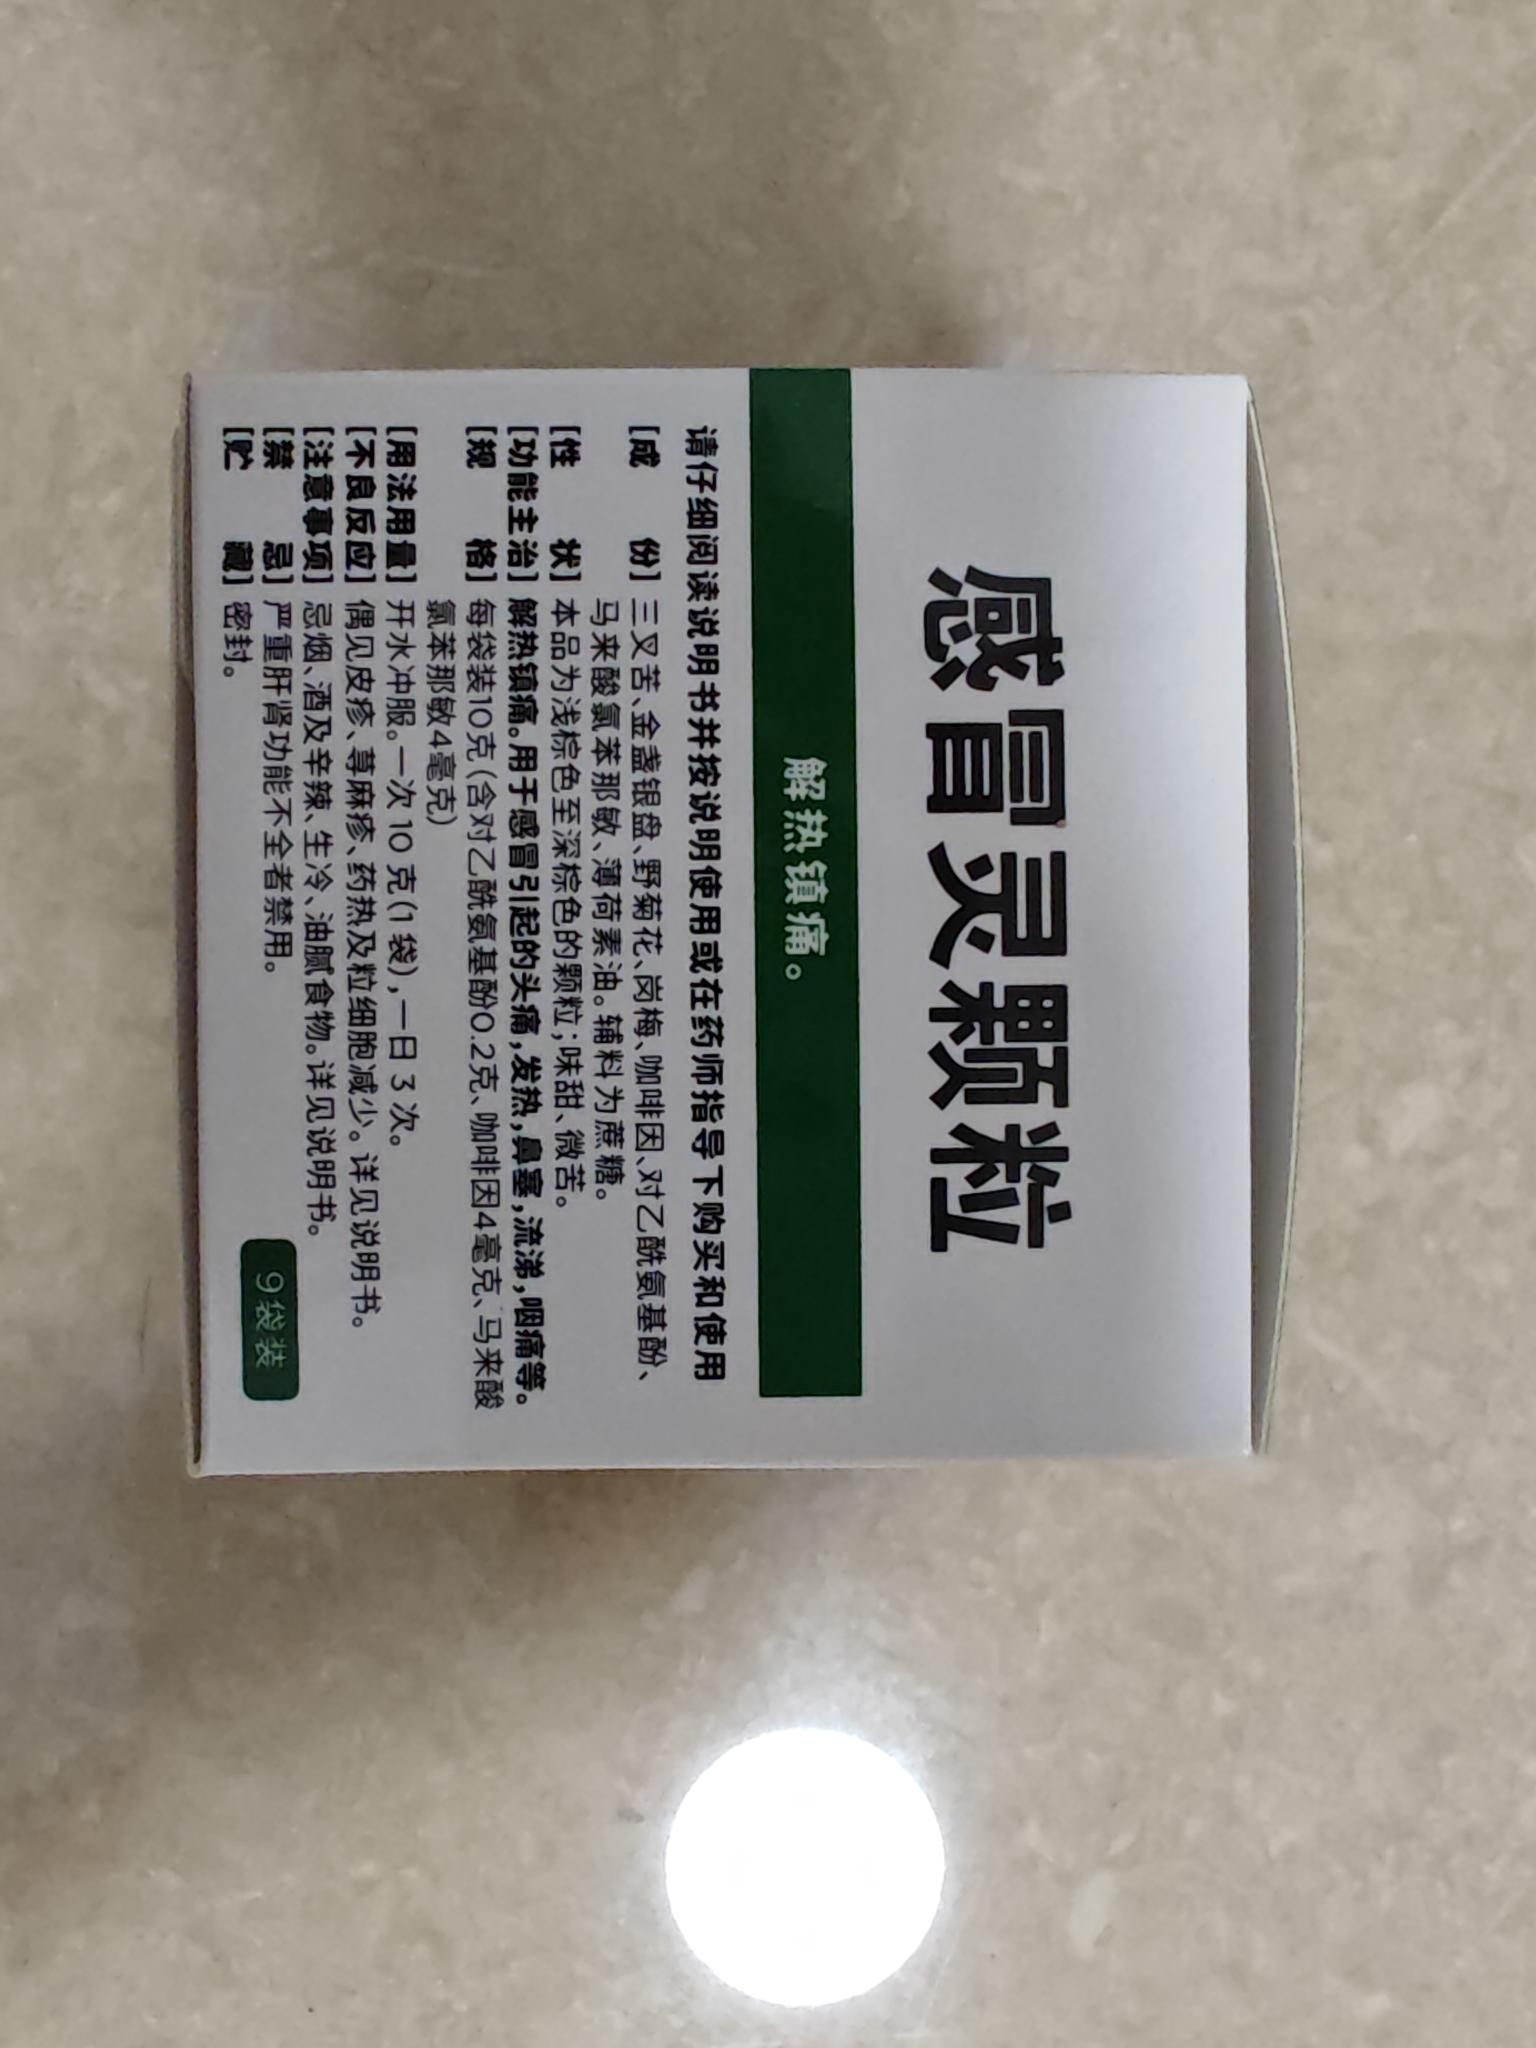Medicine3: (344, 214, 1534, 1397)
